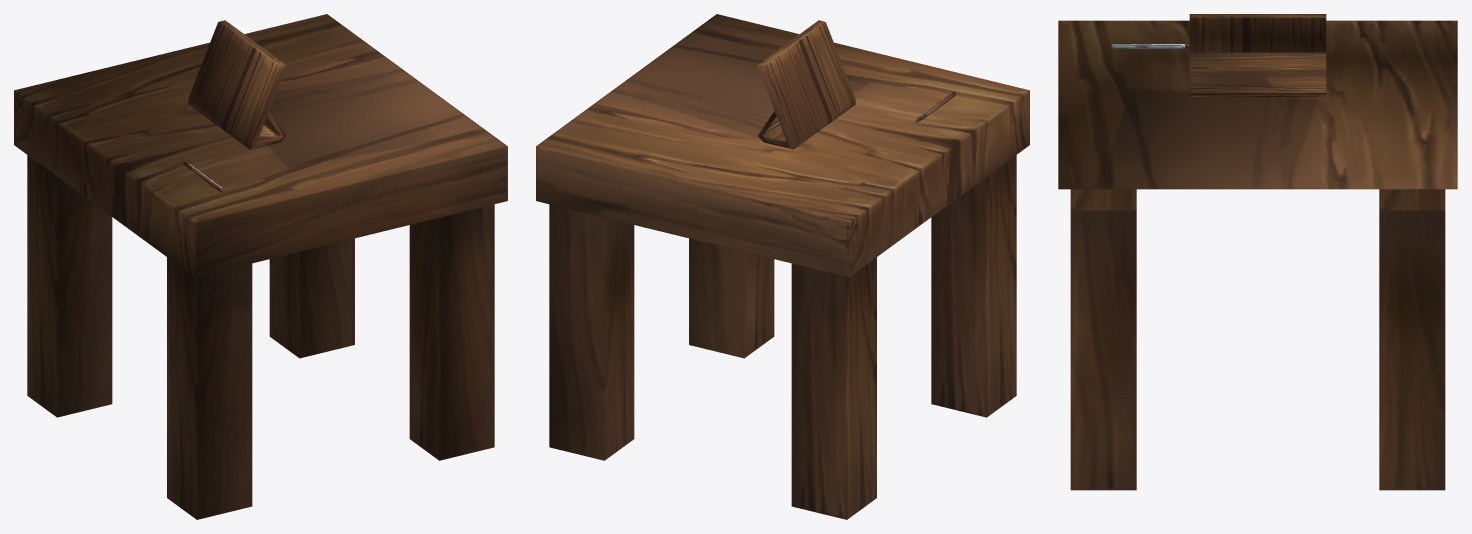
File: computer_modern.FBX
The picture shows the model from 3 angles, left to right: view 1: azimuth 30°, elevation 25°; view 2: azimuth 150°, elevation 25°; view 3: azimuth 270°, elevation 25°; orthographic projection. The views are drawn at different scales.
Visible parts, largest first — view 1: computer_modern; view 2: computer_modern; view 3: computer_modern.
Part boxes in pixels (x1,y1,x2,y2): computer_modern: (14,14,507,519); computer_modern: (536,14,1029,519); computer_modern: (1058,14,1457,490).
Size of the model in its own units: 2.53 by 2.93 by 2.53.
